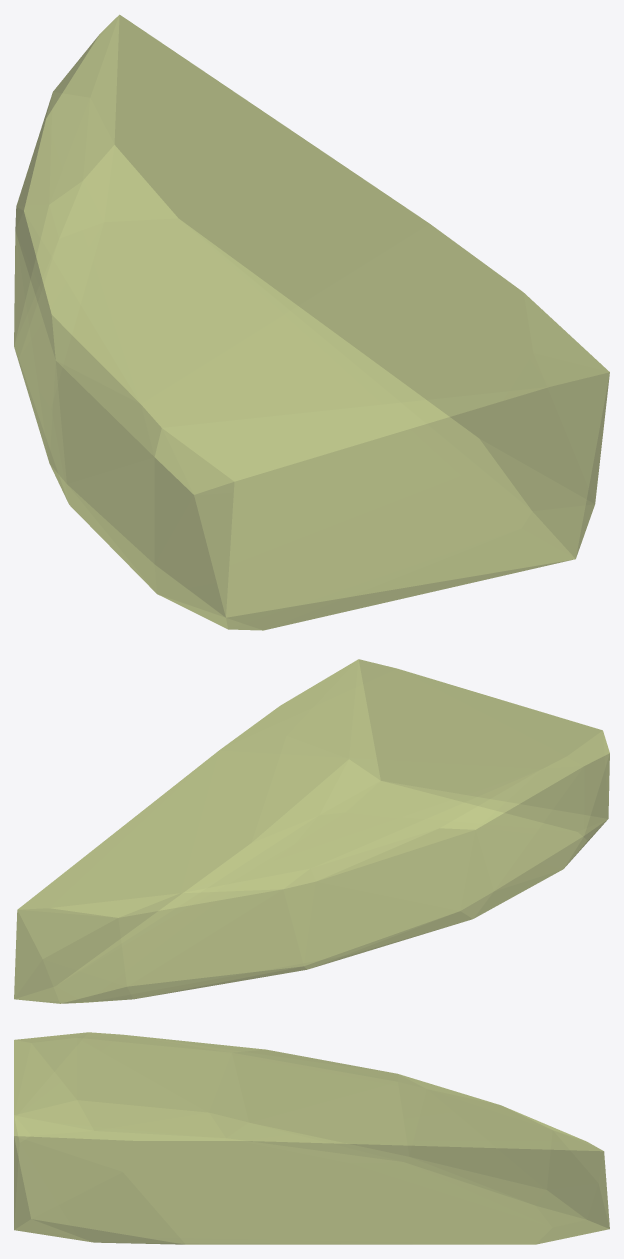
3 views of the same model, one above another, from view 1: azimuth 30°, elevation 25°; view 2: azimuth 150°, elevation 25°; view 3: azimuth 270°, elevation 25° (orthographic). The views are drawn at different scales.
Visible parts, largest first — view 1: Shape_IndexedFaceSet.002_Shape_IndexedFaceSet.10107; view 2: Shape_IndexedFaceSet.002_Shape_IndexedFaceSet.10107; view 3: Shape_IndexedFaceSet.002_Shape_IndexedFaceSet.10107.
Boxes of the visible parts, x1,y1,x2,y2 form: Shape_IndexedFaceSet.002_Shape_IndexedFaceSet.10107: (14, 14, 609, 630); Shape_IndexedFaceSet.002_Shape_IndexedFaceSet.10107: (14, 659, 609, 1003); Shape_IndexedFaceSet.002_Shape_IndexedFaceSet.10107: (14, 1032, 609, 1244).
Size of the model in its own units: 0.0179 by 0.00767 by 0.038.
